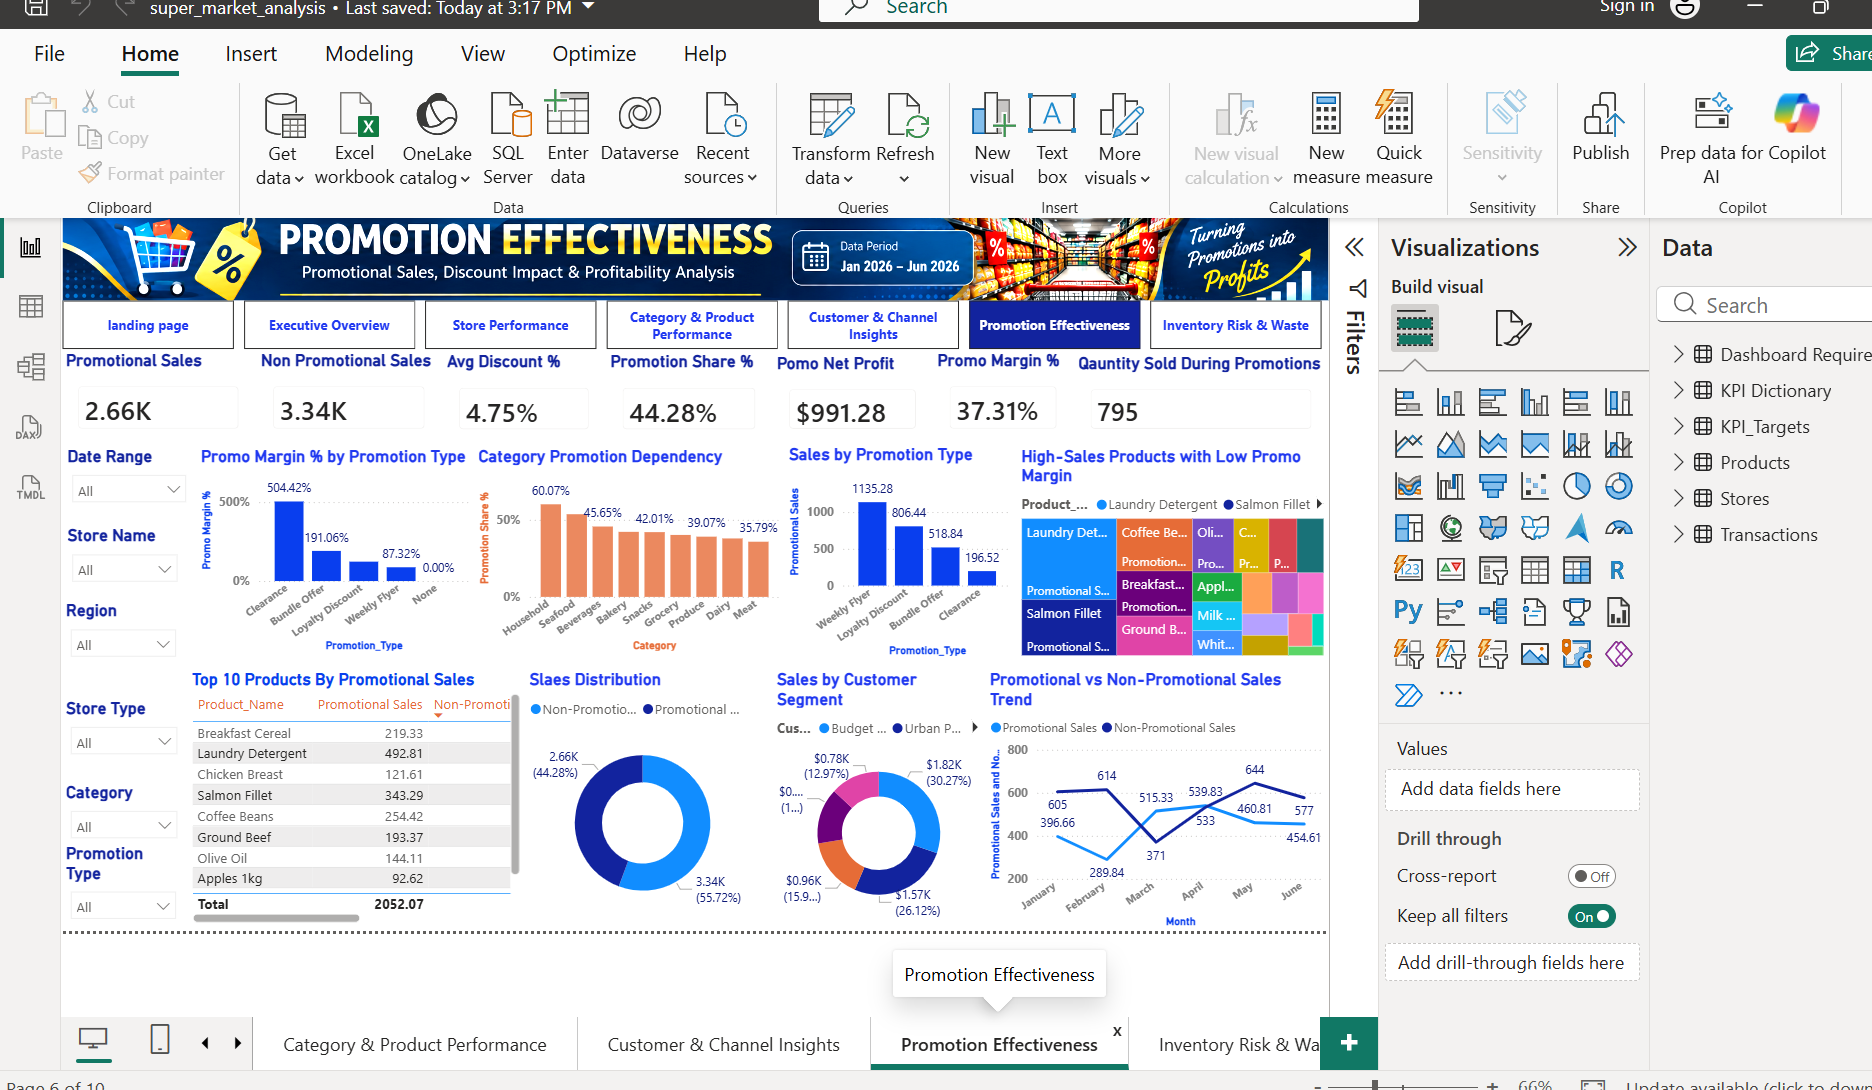

The page's visual inventory and layout, read from the dashboard file:
{"tool":"powerbi","page":{"name":"Promotion Effectiveness","canvas":[1280,720],"ordinal":5},"visuals":[{"type":"cardVisual","title":"Promotional Sales","fields":{"Data":["Dashboard Requirements.Promotional Sales"]},"box":[0,133.3,196.8,96.9],"z":0},{"type":"cardVisual","title":"Non Promotional Sales","fields":{"Data":["Dashboard Requirements.Non-Promotional Sales"]},"box":[196.8,133.3,187.8,96.9],"z":1000},{"type":"cardVisual","title":"Avg Discount %","fields":{"Data":["Dashboard Requirements.Average Discount %"]},"box":[384.6,134.8,165,95.4],"z":2000},{"type":"cardVisual","title":"Promotion Share %","fields":{"Data":["Dashboard Requirements.Promotion Share %"]},"box":[549.7,134.8,168.1,95.4],"z":3000},{"type":"cardVisual","title":"Pomo Net Profit","fields":{"Data":["Dashboard Requirements.Promo Net Profit"]},"box":[717.7,136.3,162,93.9],"z":4000},{"type":"cardVisual","title":"Promo Margin %","fields":{"Data":["Dashboard Requirements.Promo Margin %"]},"box":[879.8,133.3,142.3,96.9],"z":5000},{"type":"cardVisual","title":"Qauntity Sold During Promotions","fields":{"Data":["Dashboard Requirements.Quantity Sold During Promotions"]},"box":[1022.1,136.3,257.4,93.9],"z":6000},{"type":"clusteredColumnChart","title":"Sales by Promotion Type","fields":{"Category":["Transactions.Promotion_Type"],"Y":["Dashboard Requirements.Promotional Sales"]},"box":[729.8,228.6,234.7,218],"z":7000},{"type":"clusteredColumnChart","title":"Promo Margin % by Promotion Type","fields":{"Category":["Transactions.Promotion_Type"],"Y":["Dashboard Requirements.Promo Margin %"]},"box":[136.3,230.2,280.1,212],"z":8000},{"type":"lineChart","title":"Promotional vs Non-Promotional Sales Trend","fields":{"Category":["Transactions.Date.Variation.Date Hierarchy.Month"],"Y":["Dashboard Requirements.Promotional Sales","Dashboard Requirements.Non-Promotional Sales"]},"box":[932.8,455.8,346.8,265],"z":9000},{"type":"clusteredColumnChart","title":"Category Promotion Dependency","fields":{"Category":["Products.Category"],"Y":["Dashboard Requirements.Promotion Share %"]},"box":[416.4,230.2,313.4,212],"z":10000},{"type":"treemap","title":"High-Sales Products with Low Promo Margin","fields":{"Group":["Products.Product_Name"],"Values":["Dashboard Requirements.Promotional Sales","Dashboard Requirements.Promo Margin %"]},"box":[964.5,230.2,315,216.5],"z":11000},{"type":"pageNavigator","box":[1.5,83.3,1278,50],"z":12000},{"type":"donutChart","title":"Sales by Customer Segment","fields":{"Category":["Transactions.Customer_Segment"],"Y":["Dashboard Requirements.Total Gross Sales"]},"box":[717.7,455.8,215,262],"z":13000},{"type":"donutChart","title":"Slaes Distribution","fields":{"Y":["Dashboard Requirements.Non-Promotional Sales","Dashboard Requirements.Promotional Sales"]},"box":[467.9,455.8,237.7,260.4],"z":14000},{"type":"slicer","title":"Date Range","fields":{"Values":["Transactions.Date.Variation.Date Hierarchy.Year","Transactions.Date.Variation.Date Hierarchy.Quarter","Transactions.Date.Variation.Date Hierarchy.Month","Transactions.Date.Variation.Date Hierarchy.Day"]},"box":[1.5,230.2,134.8,80.3],"z":15000},{"type":"slicer","title":"Store Name","fields":{"Values":["Stores.Store_Name"]},"box":[1.5,310.4,125.7,75.7],"z":16000},{"type":"slicer","title":"Region","fields":{"Values":["Stores.Region"]},"box":[0,386.1,125.7,69.7],"z":17000},{"type":"slicer","title":"Store Type","fields":{"Values":["Stores.Store_Type"]},"box":[0,484.5,127.2,72.7],"z":18000},{"type":"slicer","title":"Category","fields":{"Values":["Products.Category"]},"box":[0,569.3,127.2,62.1],"z":19000},{"type":"slicer","title":"Promotion Type","fields":{"Values":["Transactions.Promotion_Type"]},"box":[0,631.4,125.7,84.8],"z":20000},{"type":"tableEx","title":"Top 10 Products By Promotional Sales","fields":{"Values":["Products.Product_Name","Dashboard Requirements.Promotional Sales","Dashboard Requirements.Non-Promotional Sales","Dashboard Requirements.Profit Margin %","Dashboard Requirements.Total Quantity Sold"]},"box":[127.2,455.8,340.7,260.4],"z":21000},{"type":"image","box":[1.5,0,1278,83.3],"z":24000}]}

Visuals, with their boxes on the page's 1280x720 design canvas (x1, y1, x2, y2). These are canvas units, not pixel positions in the 1872x1090 screenshot, which may show the page scaled, cropped or inside an application window:
"Promotional Sales" cardVisual: [x1=0, y1=133, x2=197, y2=230]
"Non Promotional Sales" cardVisual: [x1=197, y1=133, x2=385, y2=230]
"Avg Discount %" cardVisual: [x1=385, y1=135, x2=550, y2=230]
"Promotion Share %" cardVisual: [x1=550, y1=135, x2=718, y2=230]
"Pomo Net Profit" cardVisual: [x1=718, y1=136, x2=880, y2=230]
"Promo Margin %" cardVisual: [x1=880, y1=133, x2=1022, y2=230]
"Qauntity Sold During Promotions" cardVisual: [x1=1022, y1=136, x2=1280, y2=230]
"Sales by Promotion Type" clusteredColumnChart: [x1=730, y1=229, x2=964, y2=447]
"Promo Margin % by Promotion Type" clusteredColumnChart: [x1=136, y1=230, x2=416, y2=442]
"Promotional vs Non-Promotional Sales Trend" lineChart: [x1=933, y1=456, x2=1280, y2=721]
"Category Promotion Dependency" clusteredColumnChart: [x1=416, y1=230, x2=730, y2=442]
"High-Sales Products with Low Promo Margin" treemap: [x1=964, y1=230, x2=1280, y2=447]
pageNavigator: [x1=2, y1=83, x2=1280, y2=133]
"Sales by Customer Segment" donutChart: [x1=718, y1=456, x2=933, y2=718]
"Slaes Distribution" donutChart: [x1=468, y1=456, x2=706, y2=716]
"Date Range" slicer: [x1=2, y1=230, x2=136, y2=310]
"Store Name" slicer: [x1=2, y1=310, x2=127, y2=386]
"Region" slicer: [x1=0, y1=386, x2=126, y2=456]
"Store Type" slicer: [x1=0, y1=484, x2=127, y2=557]
"Category" slicer: [x1=0, y1=569, x2=127, y2=631]
"Promotion Type" slicer: [x1=0, y1=631, x2=126, y2=716]
"Top 10 Products By Promotional Sales" tableEx: [x1=127, y1=456, x2=468, y2=716]
image: [x1=2, y1=0, x2=1280, y2=83]
